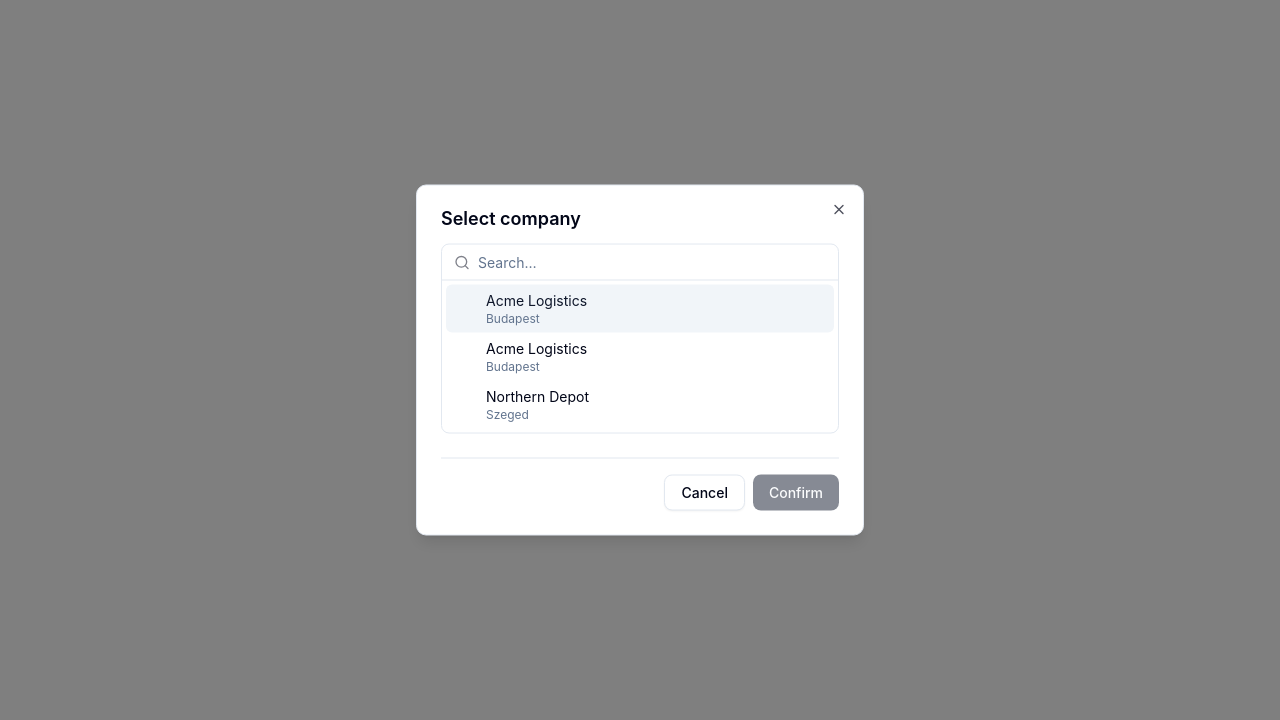
Test: entity picker menus › keeps duplicate dialog items searchable by their visible label and secondary text
The width and height of the screenshot is (1280, 720).
Type "Budapest" into the dropdown with placeholder "Search…" at (652, 262), box left=478, top=242, right=826, bottom=282
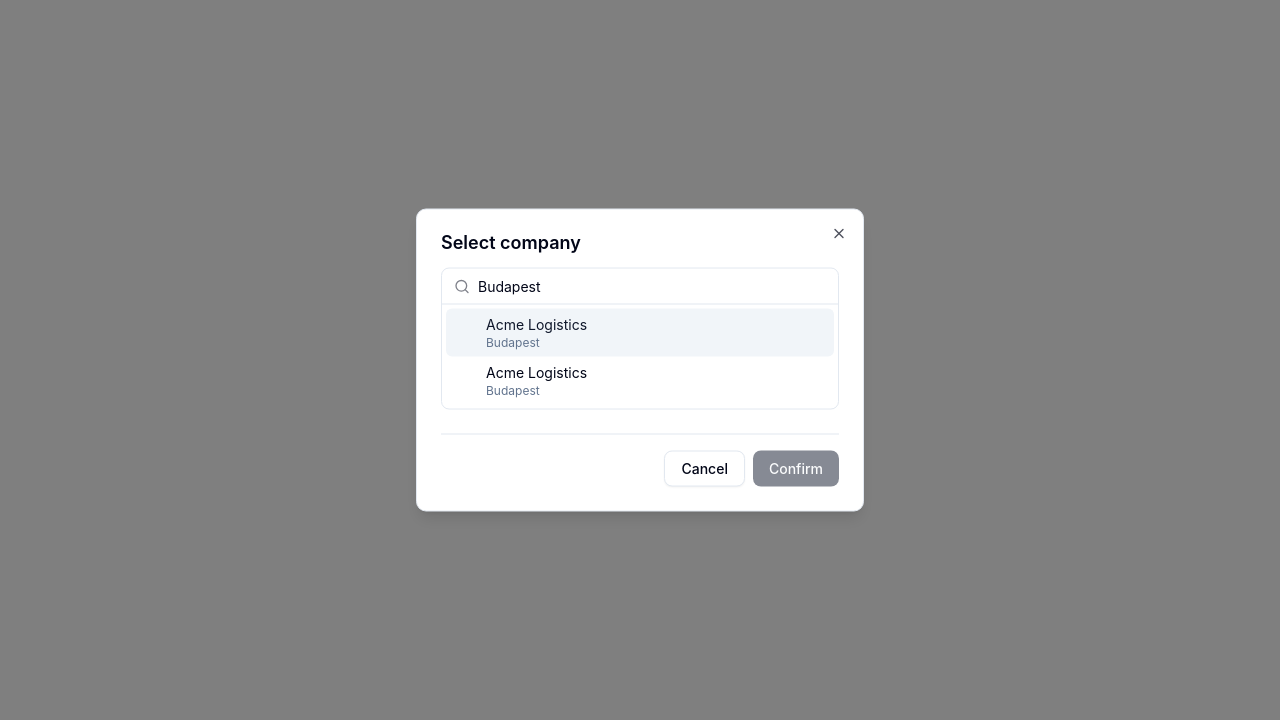
Now the text "Acme Logistics" is shown 2 times, box left=486, top=314, right=587, bottom=334; left=486, top=362, right=587, bottom=382
Now the option "Northern Depot" is gone
